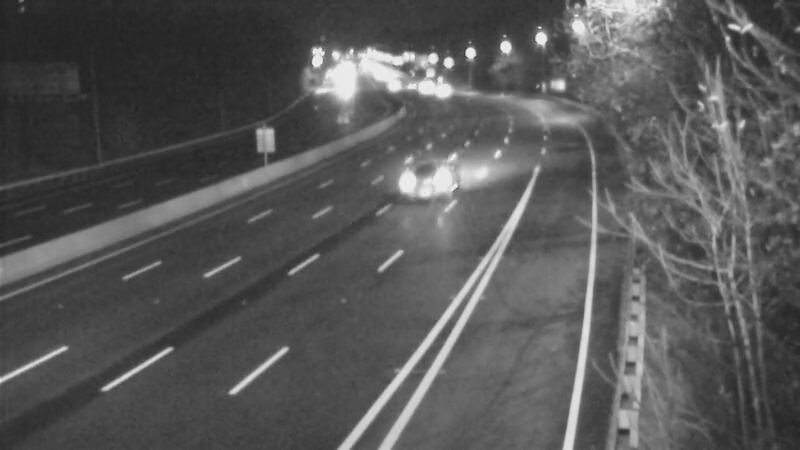vehicle: (381, 145, 461, 225), (414, 67, 464, 117)
